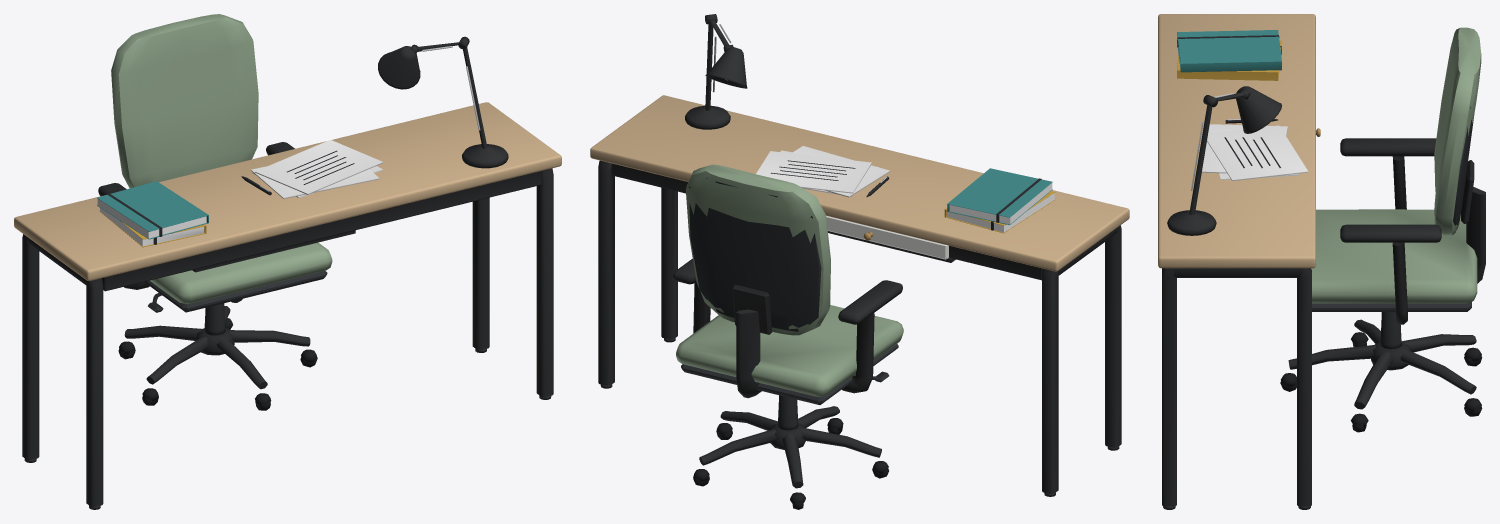
The model's file is deskWriting.glb.
3 renders of one model, left to right at view 1: azimuth 30°, elevation 25°; view 2: azimuth 150°, elevation 25°; view 3: azimuth 270°, elevation 25°, orthographic. The views are drawn at different scales.
Parts seen in each view (by area): view 1: deskWriting; view 2: deskWriting, drawer; view 3: deskWriting.
Part boxes in pixels (left/top/right/bottom): deskWriting: left=14, top=14, right=561, bottom=509; deskWriting: left=590, top=14, right=1129, bottom=509; drawer: left=826, top=215, right=948, bottom=259; deskWriting: left=1158, top=14, right=1485, bottom=509.
Bounding box in the file's own units: 1.54 × 1.11 × 0.8724.
